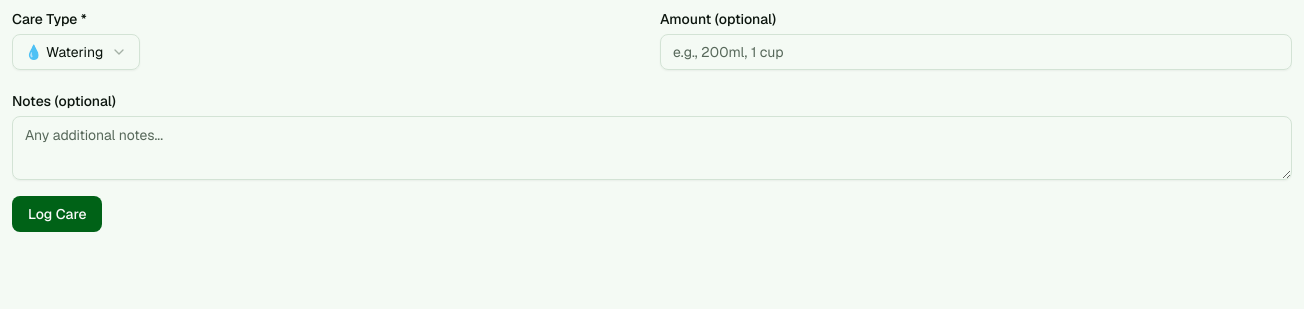
Test: CareLogForm › should display error message on failed submission
This screenshot has width=1304, height=309.
Click the button "Log Care" at (57, 214), box [12,196,102,232]
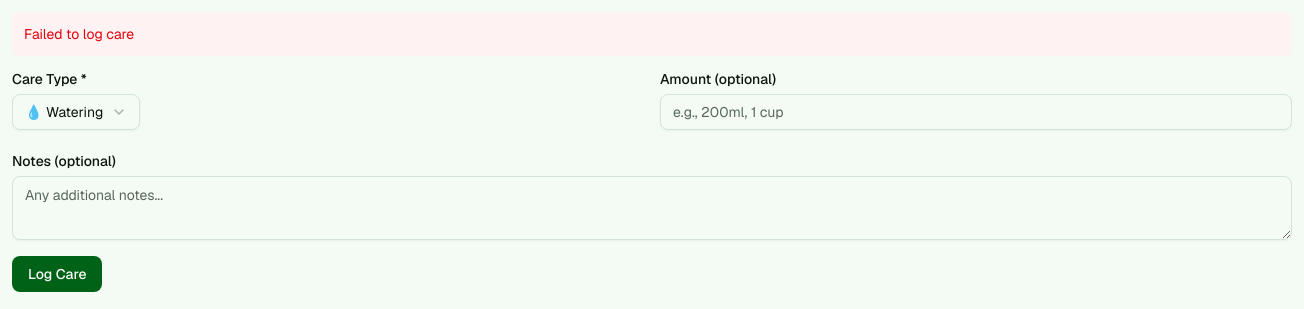
Now the text "Failed to log care" is shown, box [12,12,1292,56]
